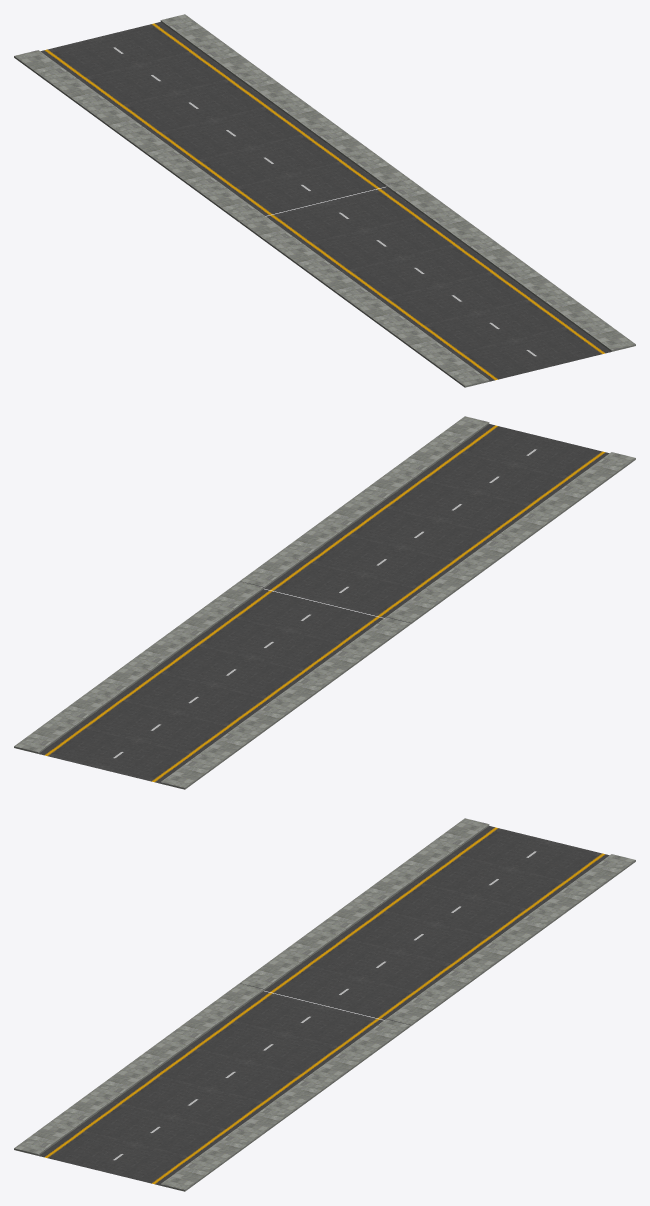
File: road.fbx
3 views of the same model, one above another, from view 1: azimuth 30°, elevation 25°; view 2: azimuth 150°, elevation 25°; view 3: azimuth 330°, elevation 25° (orthographic).
Parts seen in each view (by area): view 1: road_yellow005; view 2: road_yellow005; view 3: road_yellow005.
Boxes of the visible parts, <box> form: road_yellow005: <box>14,14,635,387</box>; road_yellow005: <box>14,416,635,789</box>; road_yellow005: <box>14,818,635,1191</box>.
Size of the model in its own units: 0.0105 by 0.048 by 0.0001.
